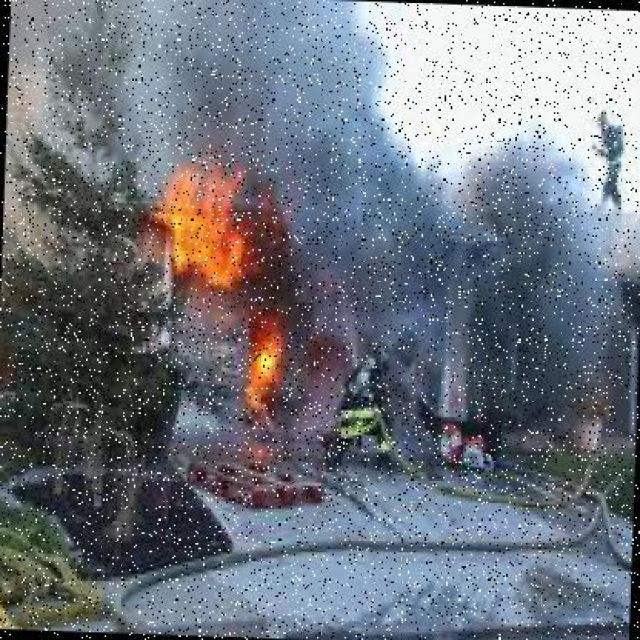fire: (143, 145, 275, 303), (224, 305, 310, 440)
